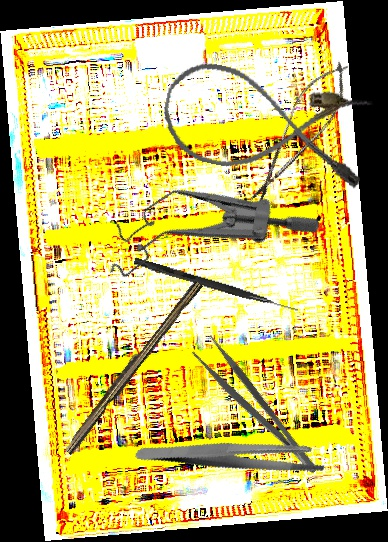Cannula: (155, 55, 377, 195)
Dressing Forceps: (134, 399, 330, 512), (189, 333, 322, 486)
Hook Surgical: (133, 257, 300, 314)
Micro Scissor: (237, 50, 363, 216)
Scalpel Handle: (61, 276, 203, 458)
Speculum: (87, 128, 324, 341)
